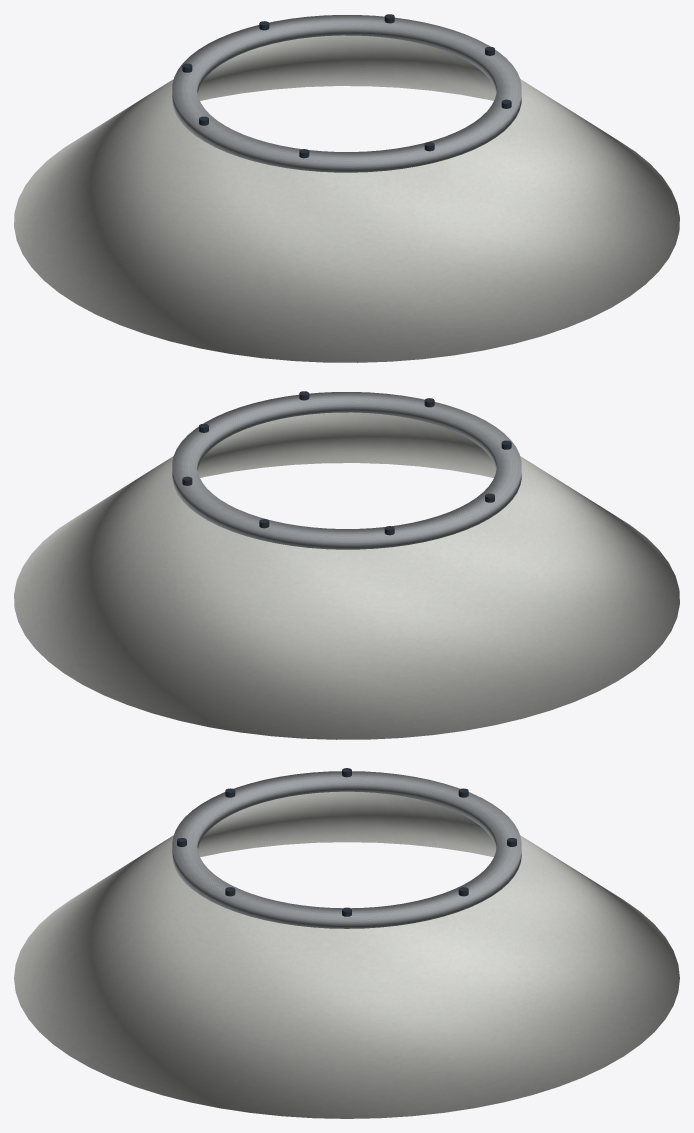
The model's file is payload_adapter.glb.
3 renders of one model, top to bottom at view 1: azimuth 30°, elevation 25°; view 2: azimuth 150°, elevation 25°; view 3: azimuth 270°, elevation 25°, orthographic.
Parts seen in each view (by area): view 1: Adapter_Structure, Adapter_TopRing; view 2: Adapter_Structure, Adapter_TopRing; view 3: Adapter_Structure, Adapter_TopRing.
Part boxes in pixels (<box>): Adapter_Structure: <box>14,35,679,362</box>; Adapter_TopRing: <box>172,15,521,172</box>; Adapter_Structure: <box>14,412,679,739</box>; Adapter_TopRing: <box>172,392,521,549</box>; Adapter_Structure: <box>14,791,679,1118</box>; Adapter_TopRing: <box>172,771,521,928</box>.
Bounding box in the file's own units: 2.4 × 0.55 × 2.4.
3 materials, 2 textured.
